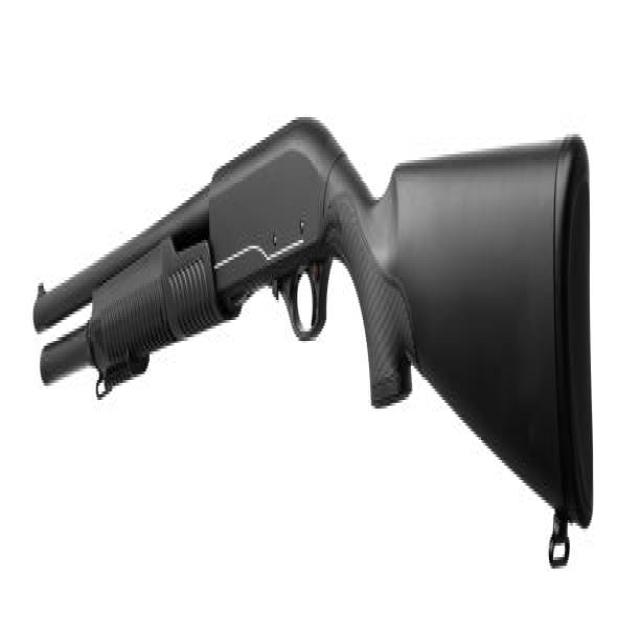rifle: (28, 88, 607, 605)
